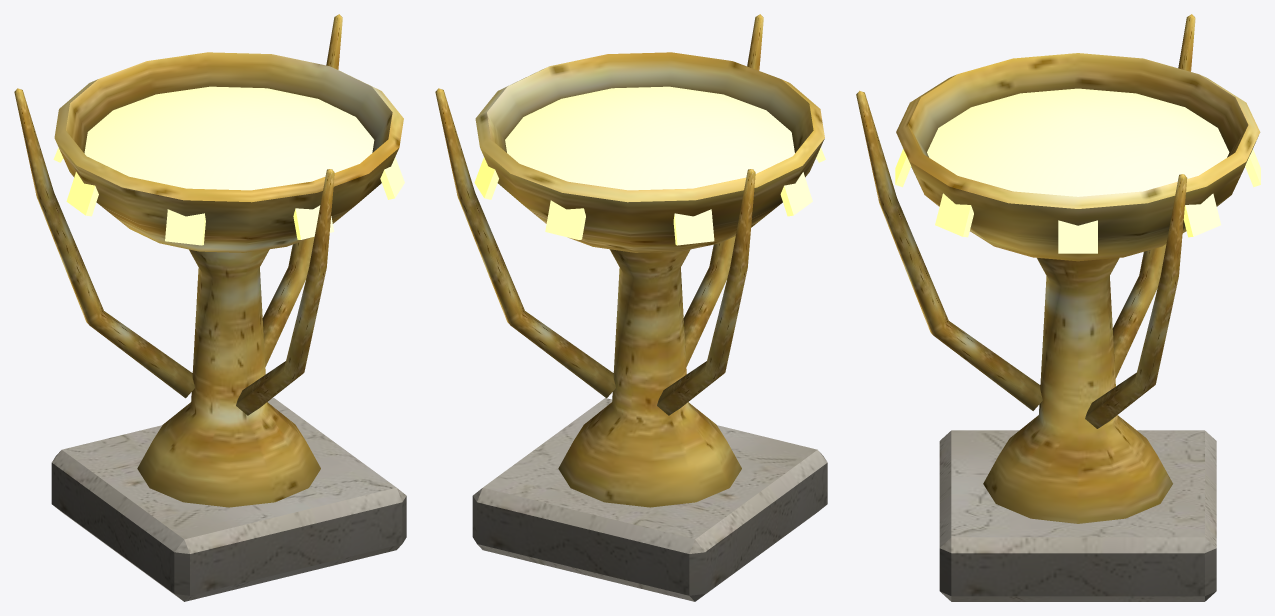
Rendered from bifrost_rune_brazier.glb.
The picture shows the model from 3 angles, left to right: view 1: azimuth 30°, elevation 25°; view 2: azimuth 150°, elevation 25°; view 3: azimuth 270°, elevation 25°; orthographic projection. The views are drawn at different scales.
Visible parts, largest first — view 1: bifrost_rune_brazier; view 2: bifrost_rune_brazier; view 3: bifrost_rune_brazier.
Part boxes in pixels (bbox=[...]): bifrost_rune_brazier: bbox=[14, 14, 406, 601]; bifrost_rune_brazier: bbox=[435, 14, 827, 601]; bifrost_rune_brazier: bbox=[856, 14, 1260, 601].
Size of the model in its own units: 0.9748 by 1.27 by 1.02.
Materials: 3 (2 with a texture image).
